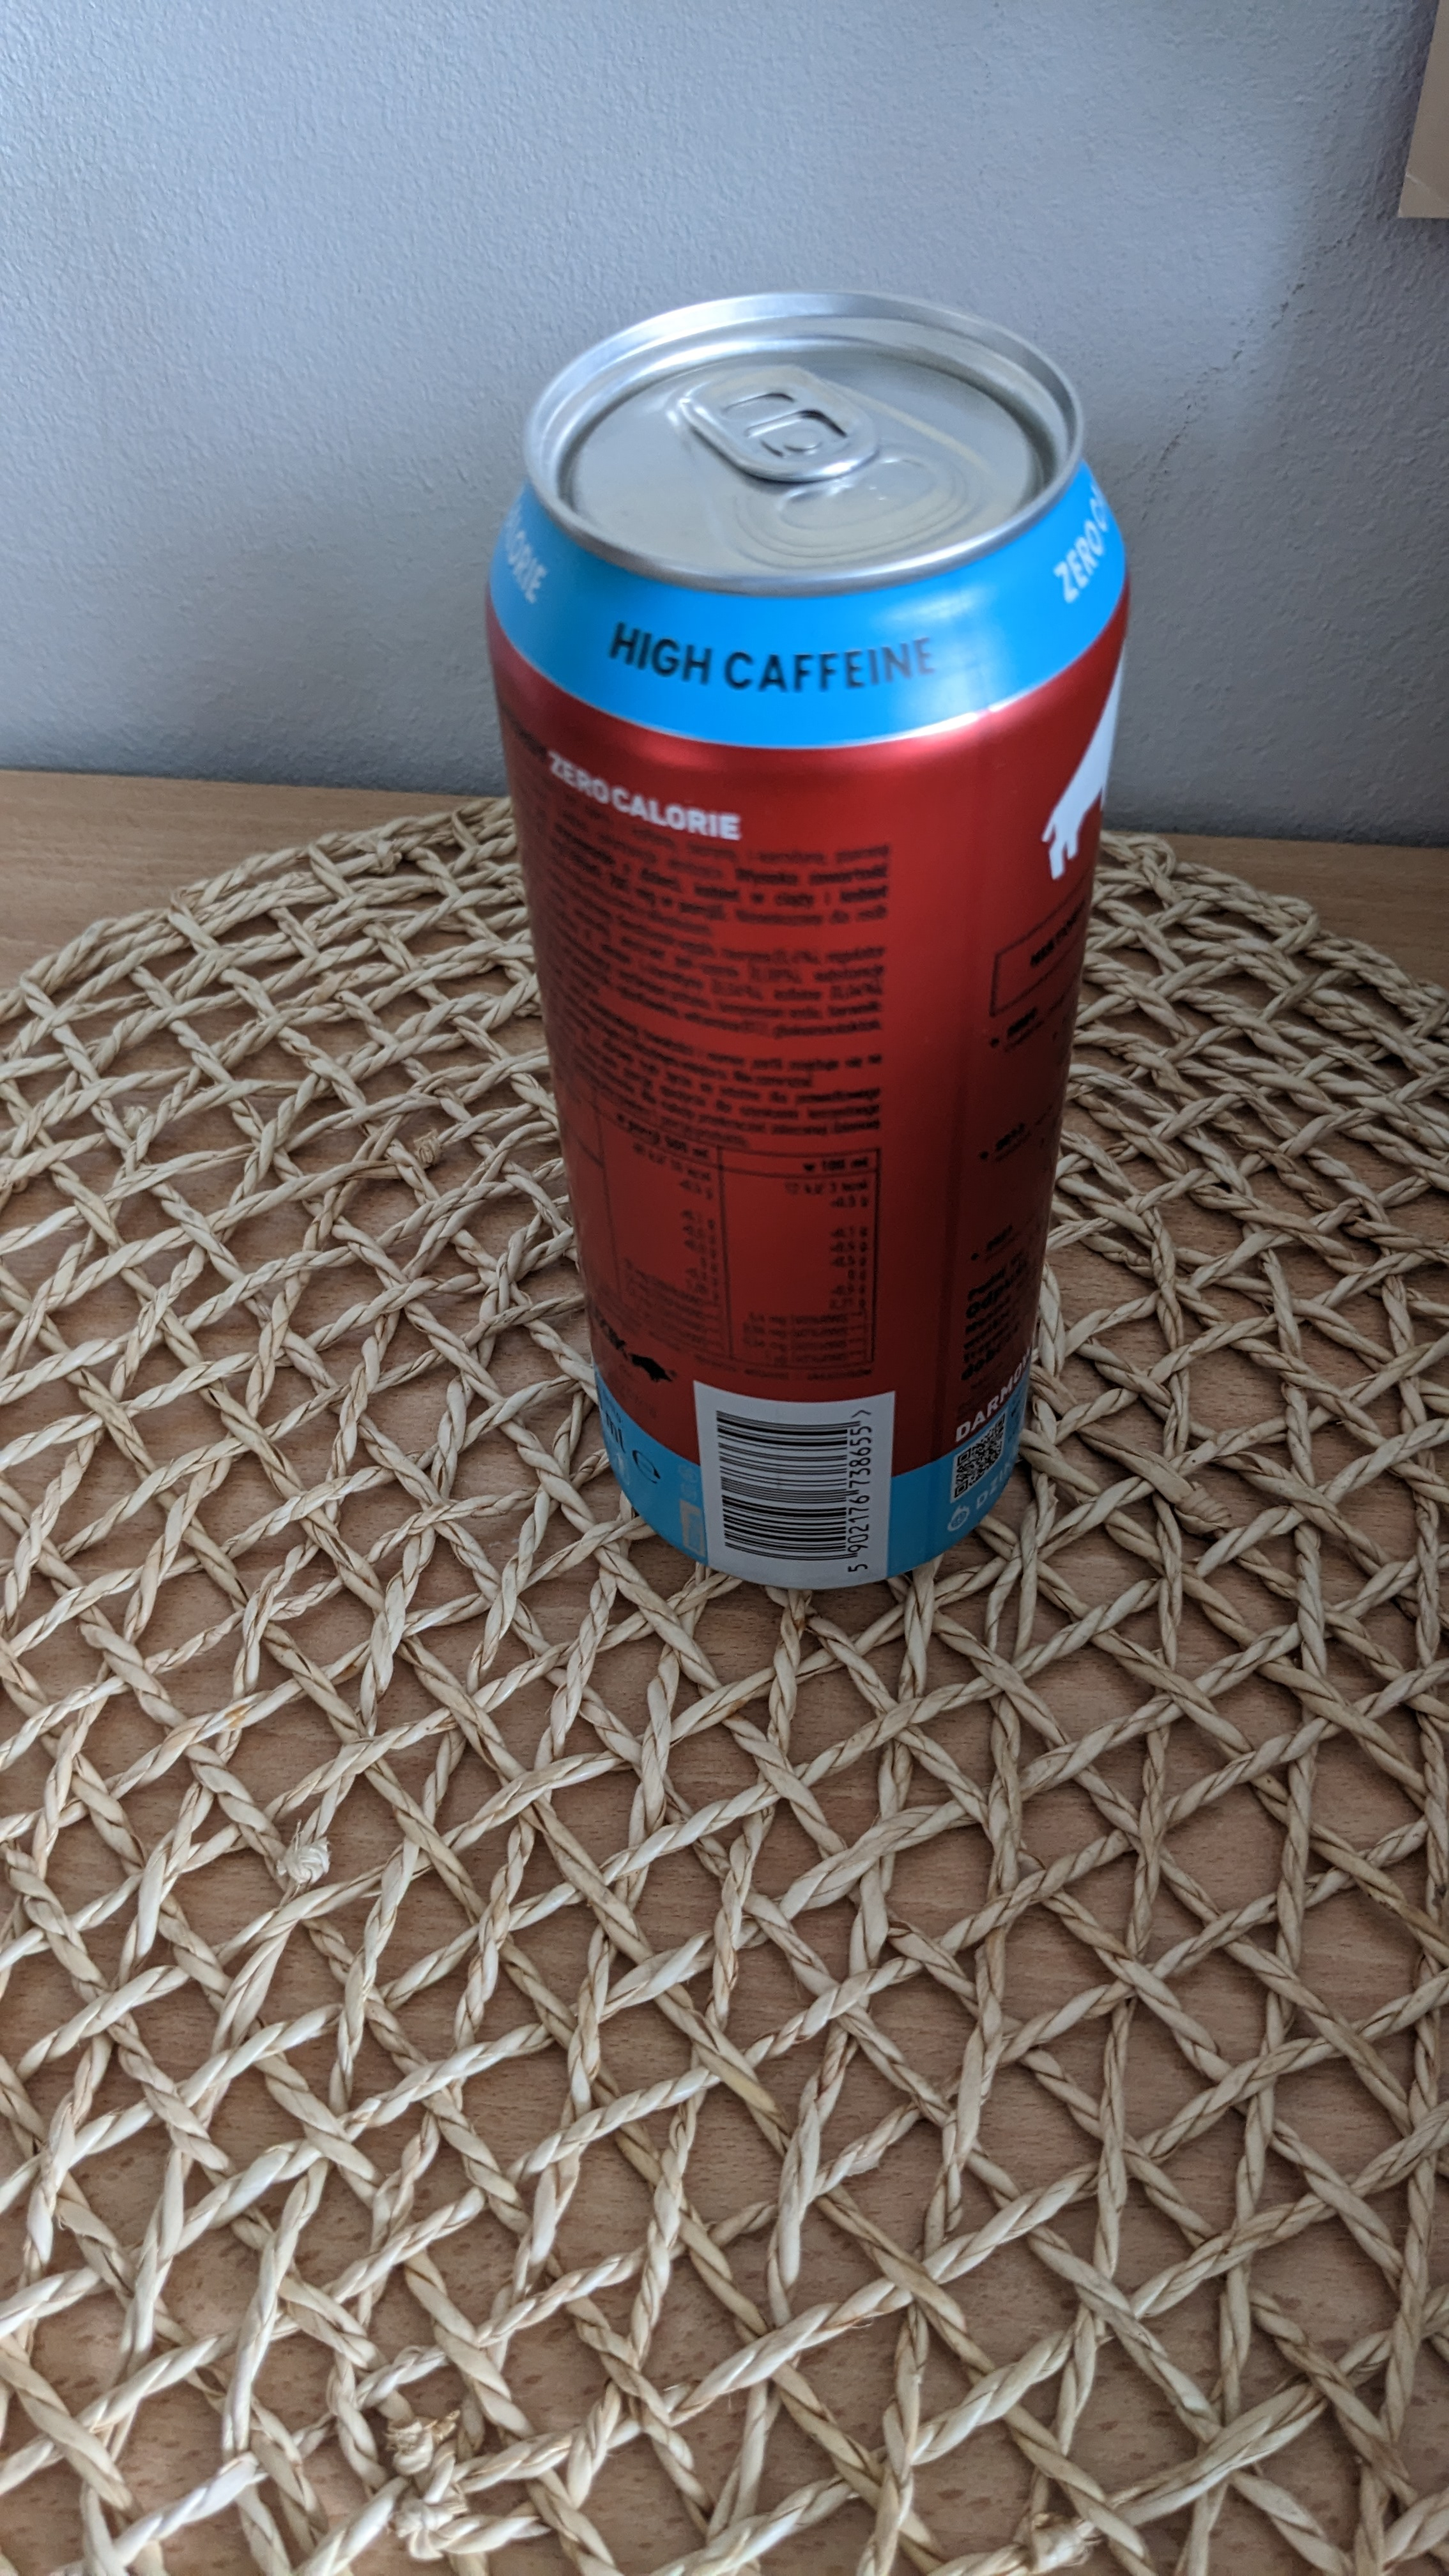dzik: (472, 290, 1139, 1615)
